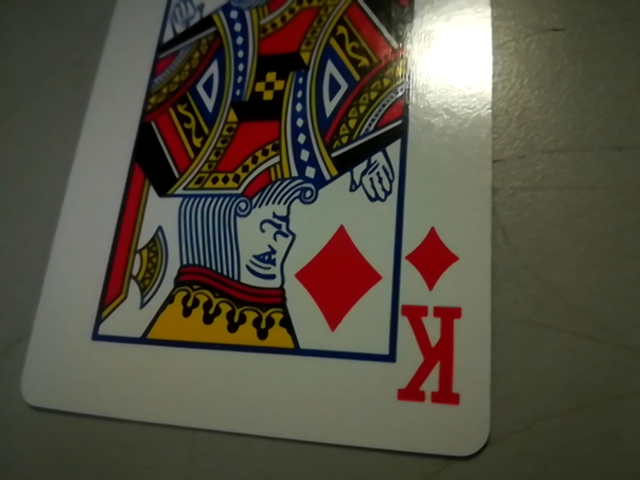fk k: (389, 222, 479, 416)
